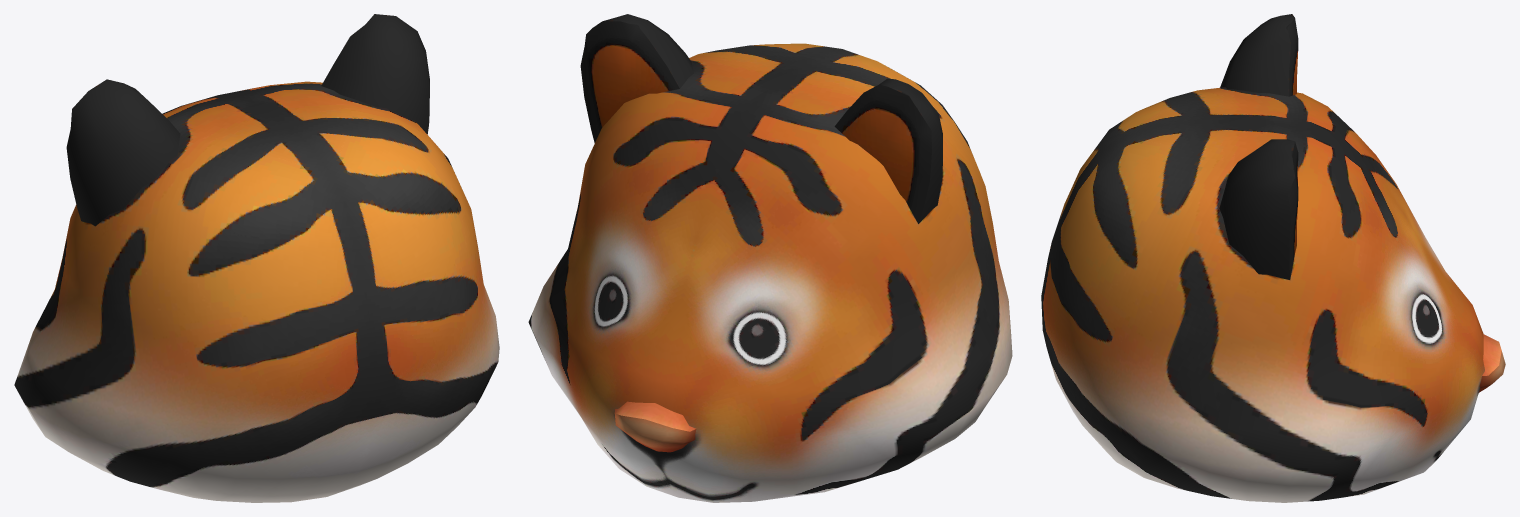
The model's file is Tiger.glb.
The picture shows the model from 3 angles, left to right: view 1: azimuth 30°, elevation 25°; view 2: azimuth 150°, elevation 25°; view 3: azimuth 270°, elevation 25°; orthographic projection. The views are drawn at different scales.
Visible parts, largest first — view 1: Tiger; view 2: Tiger; view 3: Tiger.
Part boxes in pixels (x1,y1,x2,y2): Tiger: [14, 14, 499, 502]; Tiger: [528, 14, 1012, 502]; Tiger: [1041, 14, 1505, 502].
Size of the model in its own units: 0.9261 by 0.8366 by 0.9144.
1 material, 1 textured.
